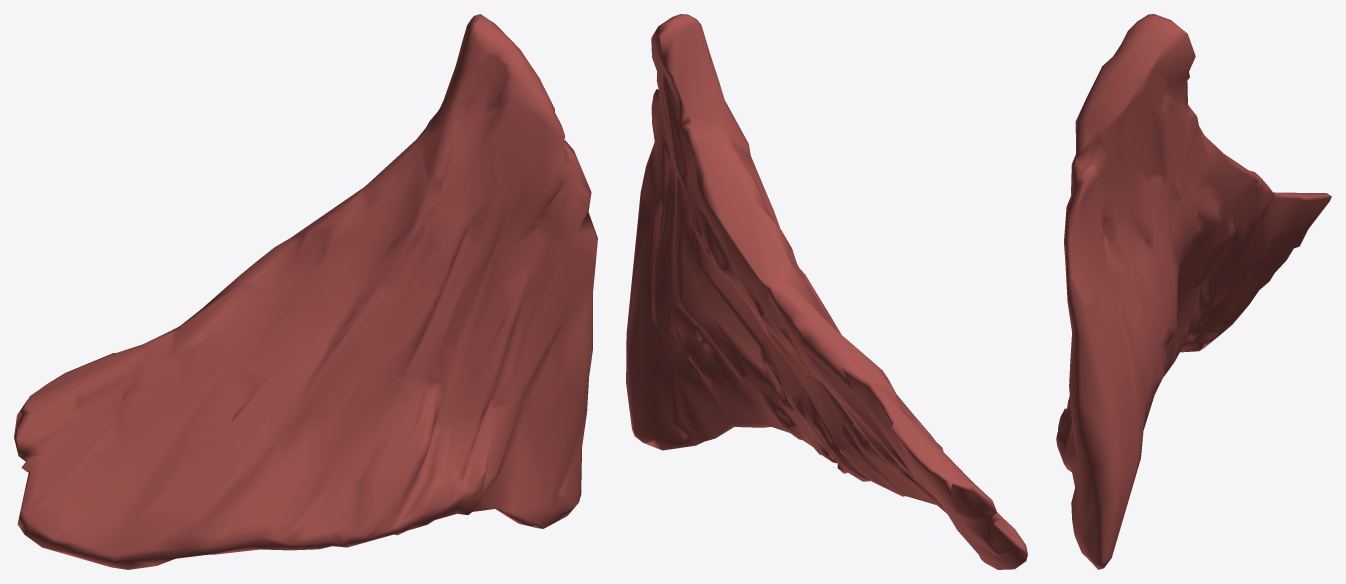
Rendered from FMA55608.glb.
3 renders of one model, left to right at view 1: azimuth 30°, elevation 25°; view 2: azimuth 150°, elevation 25°; view 3: azimuth 270°, elevation 25°, orthographic. The views are drawn at different scales.
Visible parts, largest first — view 1: FMA55608; view 2: FMA55608; view 3: FMA55608.
Part boxes in pixels (x1,y1,x2,y2): FMA55608: (14, 14, 597, 569); FMA55608: (626, 14, 1027, 569); FMA55608: (1056, 14, 1331, 569).
Size of the model in its own units: 0.0162 by 0.0155 by 0.00739.
